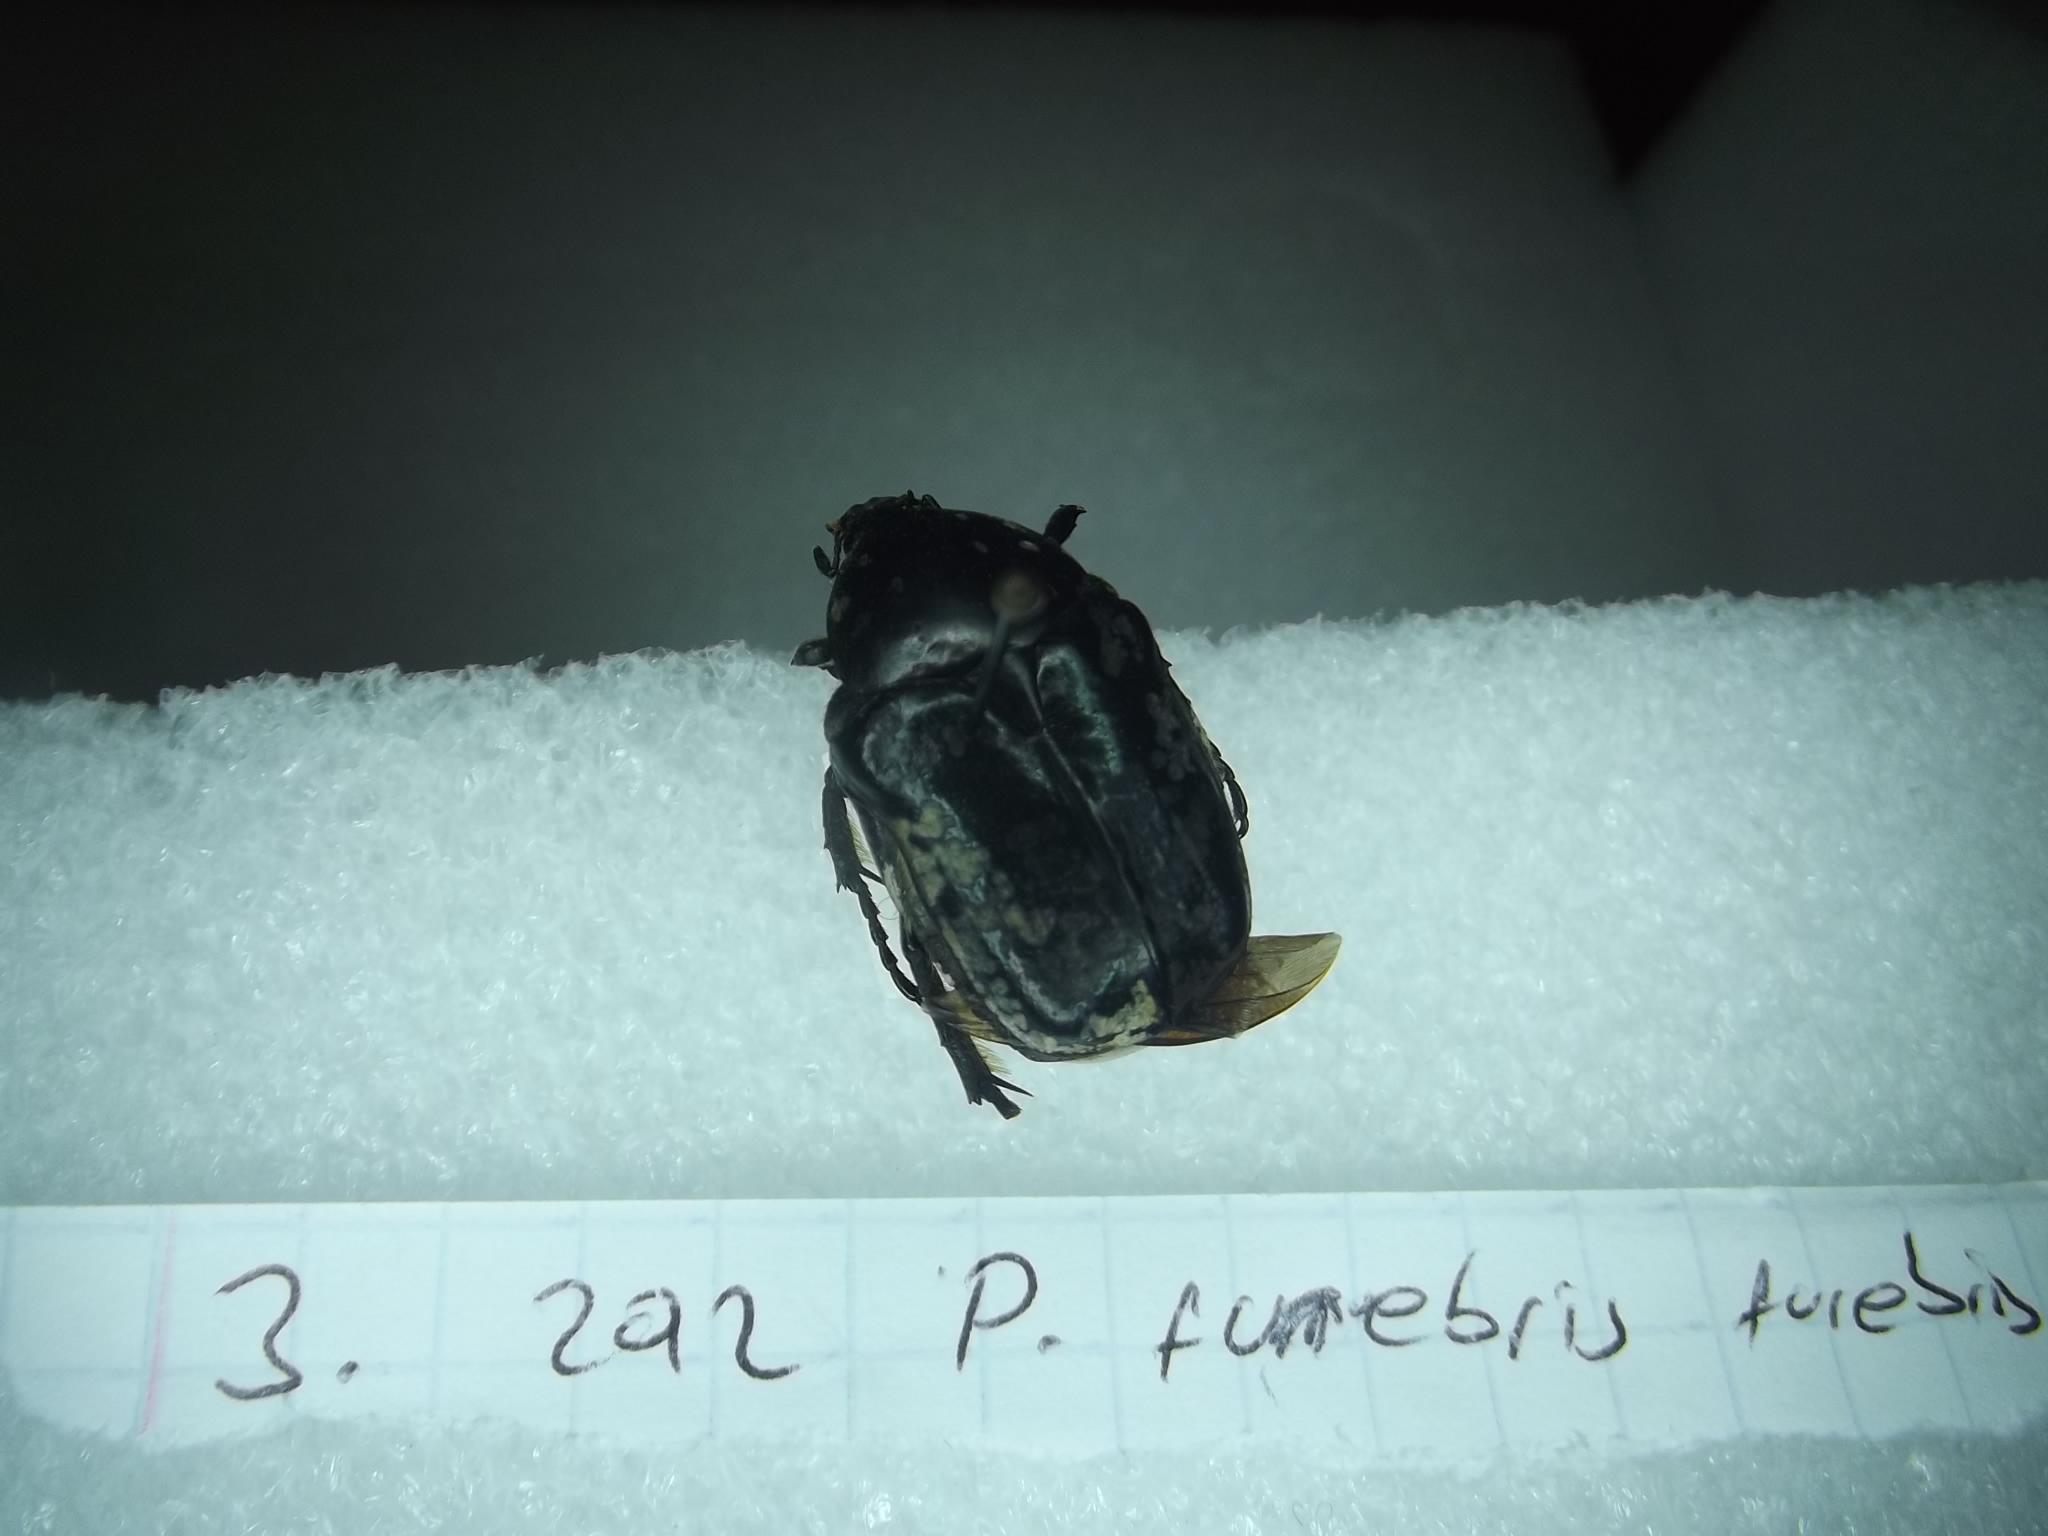Protaetia_funebris_funebris: (785, 445, 1327, 1121)
